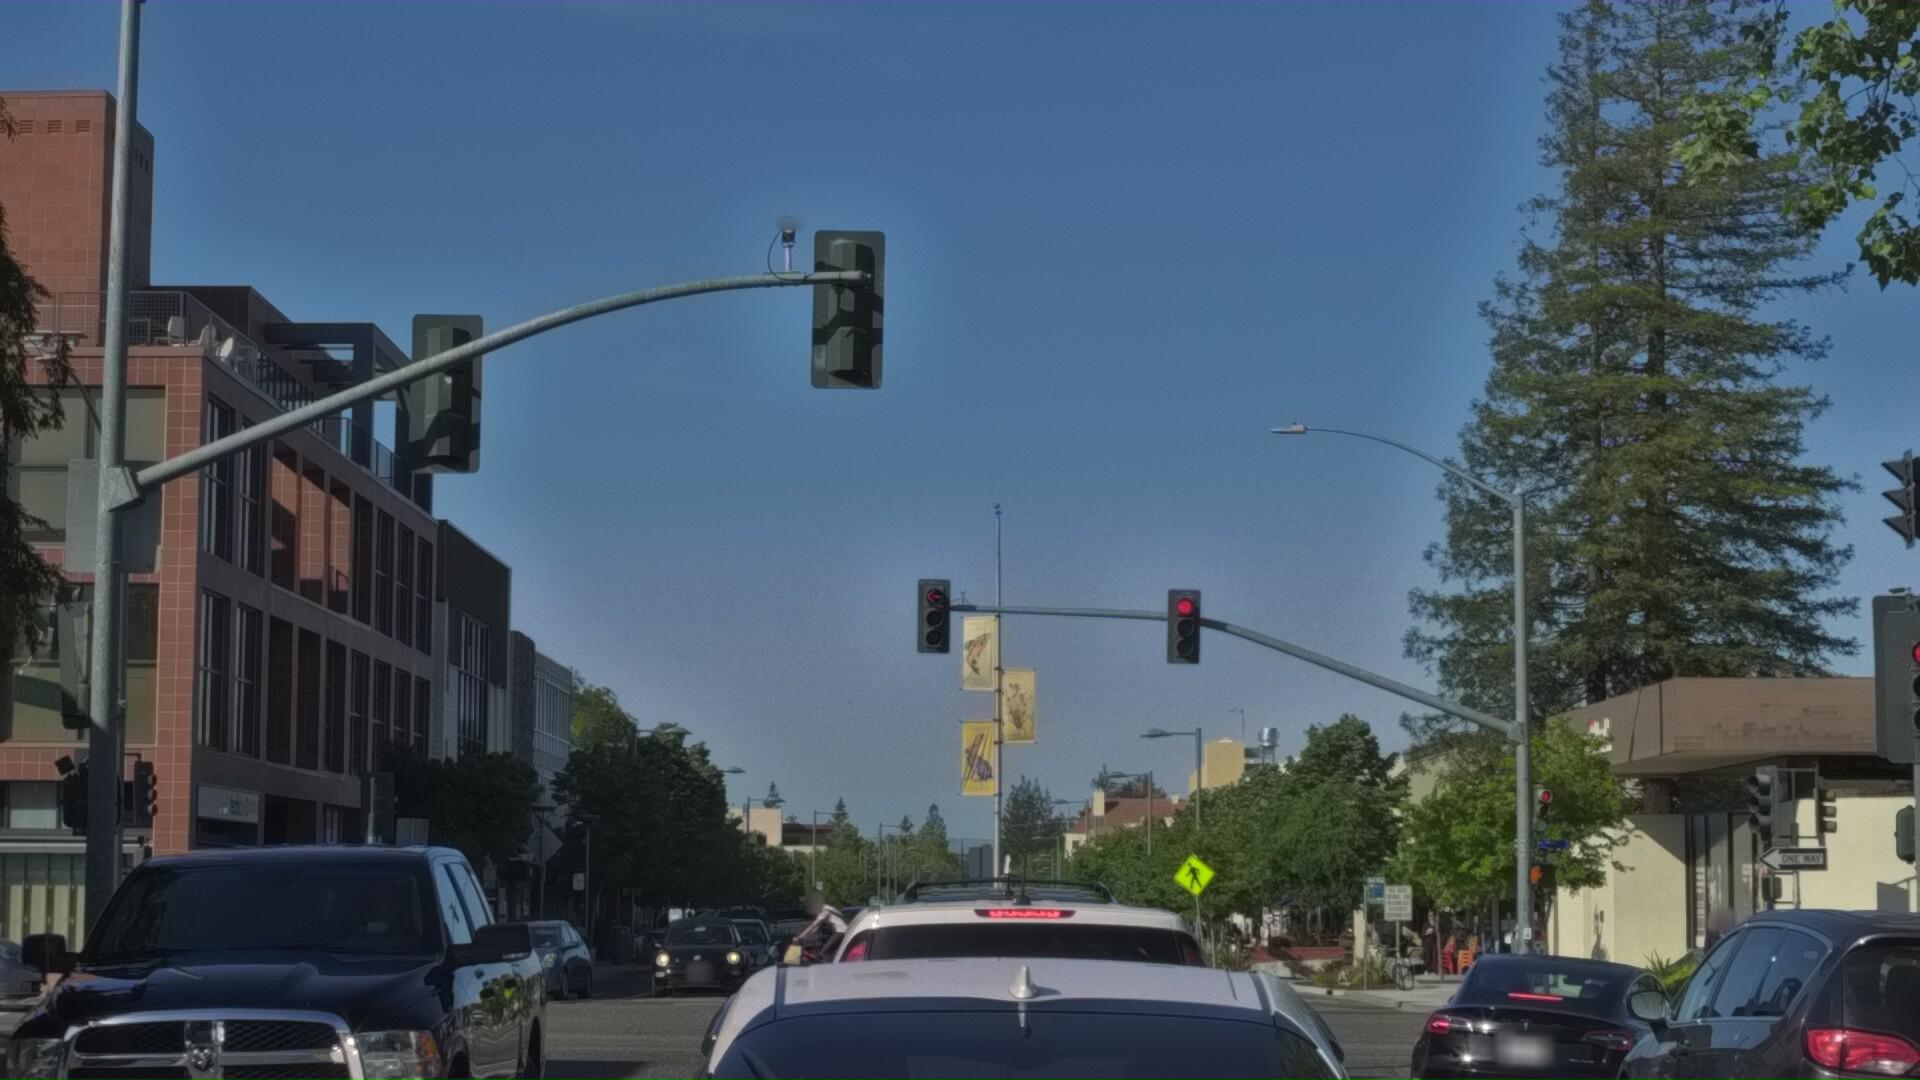bicycle: (738, 953, 898, 1080)
car: (0, 840, 574, 1080), (481, 952, 1553, 1080), (741, 916, 1296, 1080), (771, 895, 1171, 1080), (913, 891, 1212, 1080), (1605, 942, 1920, 1080), (1383, 1014, 1724, 1080), (645, 989, 758, 1080), (454, 1010, 587, 1080), (0, 957, 70, 1080)
